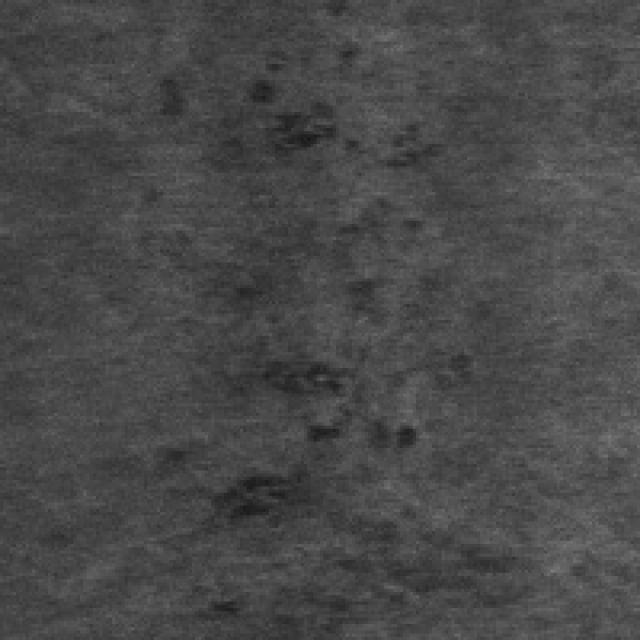rolled-in_scale: (182, 74, 442, 515)
